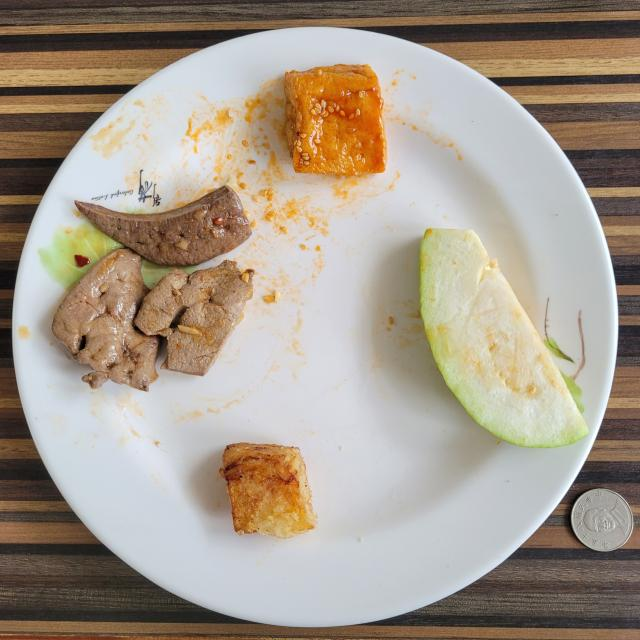coin: (571, 489, 634, 551)
creamy tofu: (285, 64, 386, 175)
fried potato: (220, 442, 318, 539)
guava -sliced-: (419, 229, 589, 448)
pig liver: (52, 186, 254, 390)
